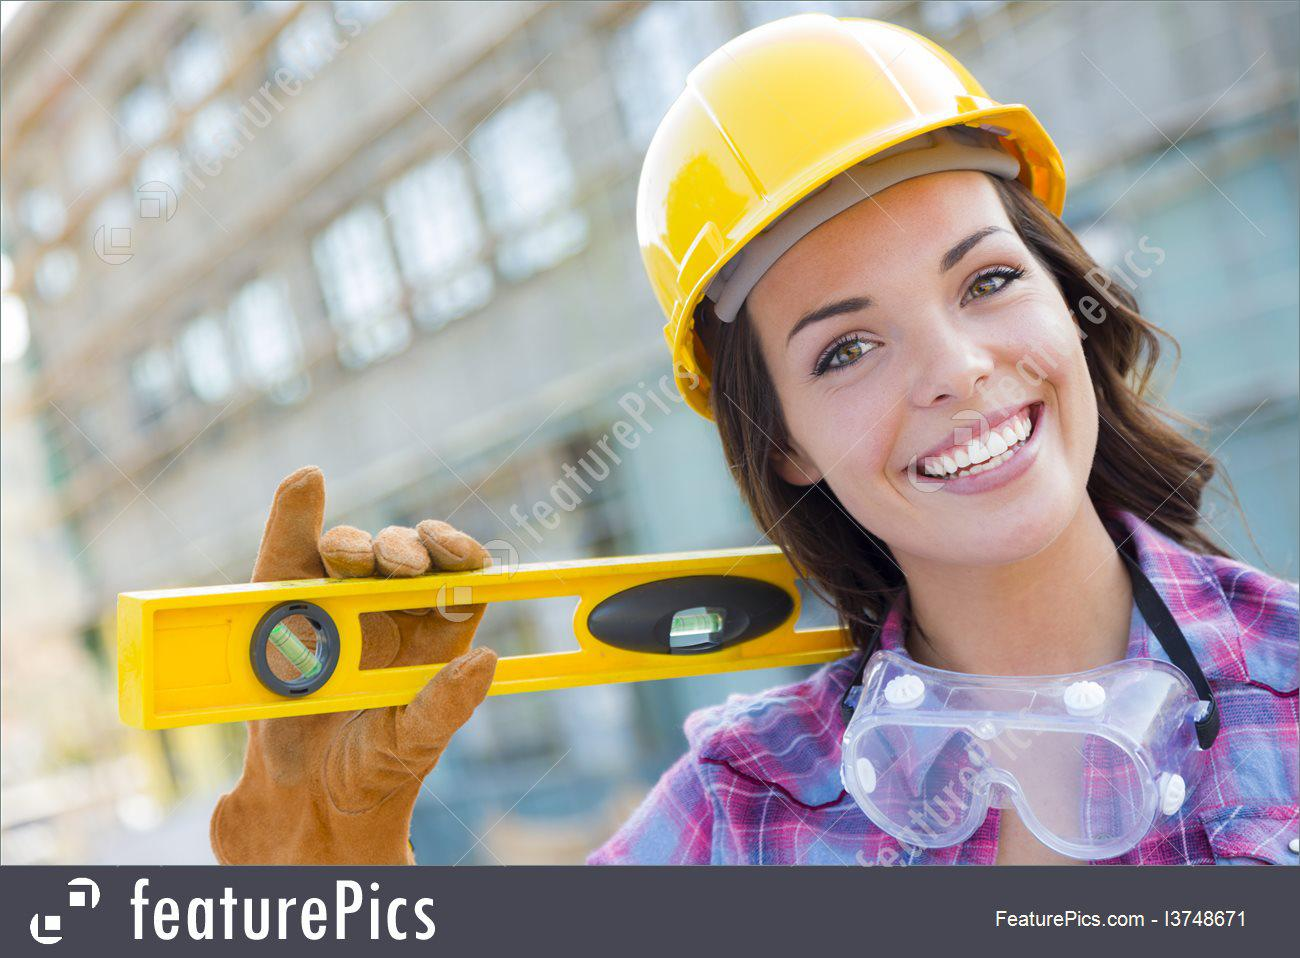hardhat: (639, 8, 1075, 425)
worker: (221, 3, 1295, 869)
